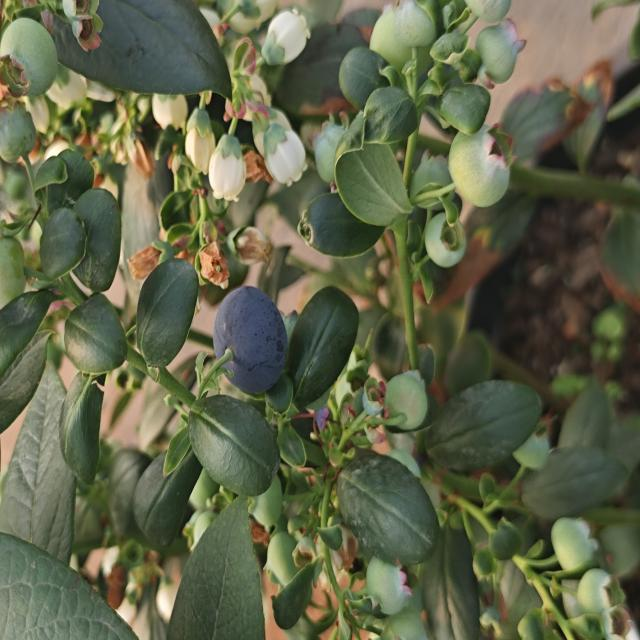ripe: (210, 282, 290, 398)
